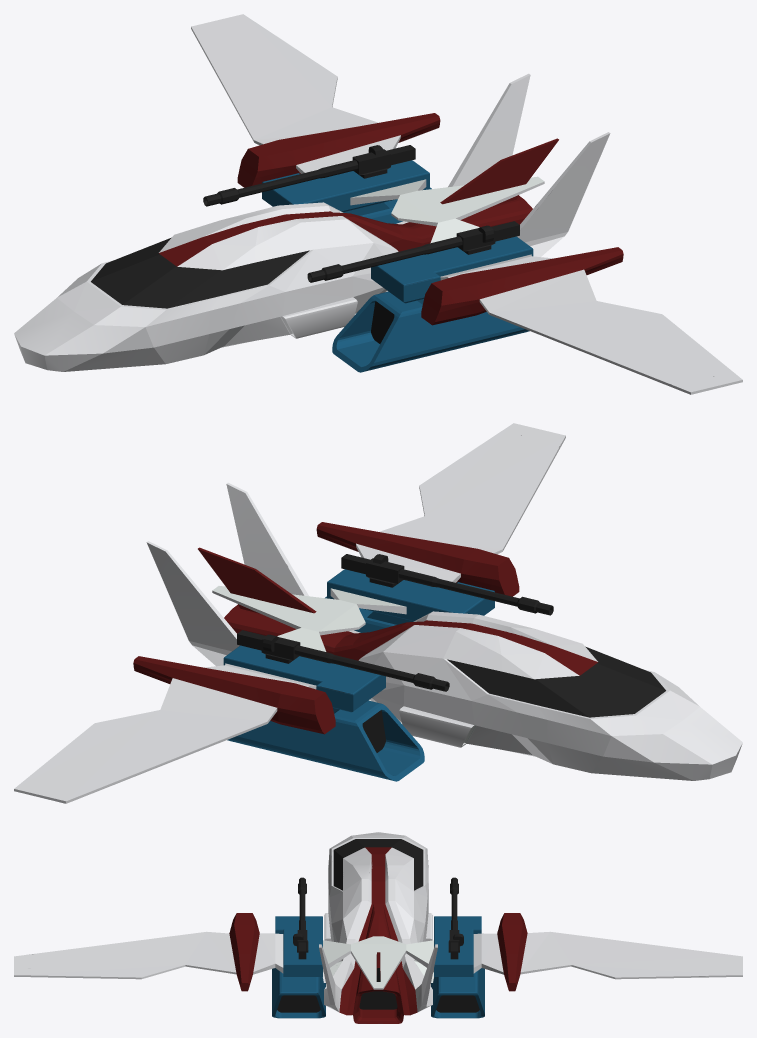
Rendered from FIghter2.obj.
3 renders of one model, top to bottom at view 1: azimuth 30°, elevation 25°; view 2: azimuth 150°, elevation 25°; view 3: azimuth 270°, elevation 25°, orthographic. The views are drawn at different scales.
Parts seen in each view (by area): view 1: Plane003; view 2: Plane003; view 3: Plane003.
Boxes of the visible parts, <box> form: Plane003: <box>14,14,742,394</box>; Plane003: <box>14,423,742,803</box>; Plane003: <box>14,832,742,1023</box>.
Size of the model in its own units: 74.35 by 19.66 by 117.
1 material, 1 textured.
